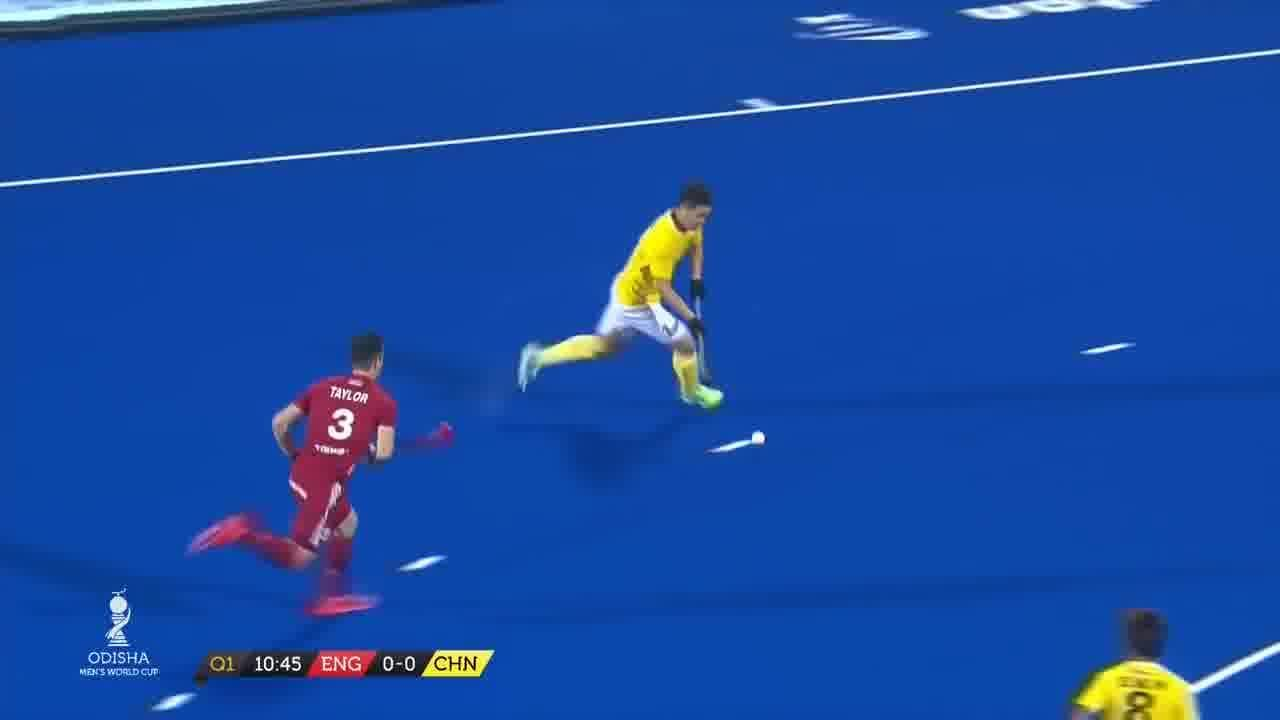ball: (746, 426, 768, 448)
